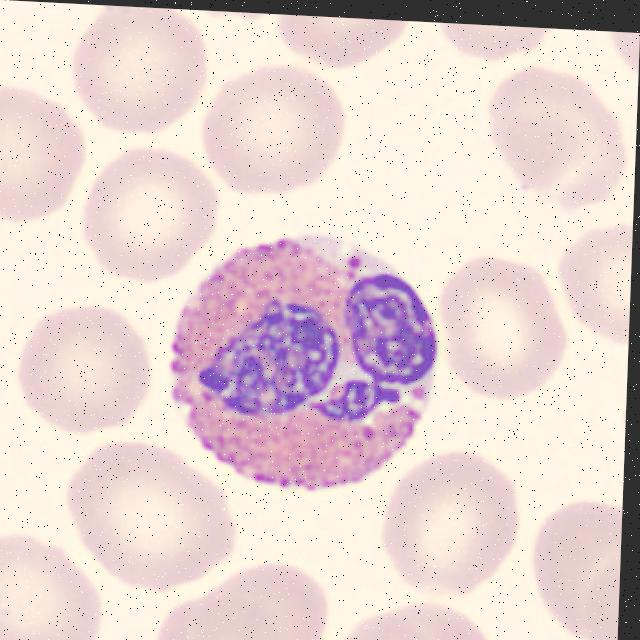eosinophil: (161, 218, 444, 502)
rbc: (63, 440, 247, 586), (193, 56, 351, 204), (480, 57, 627, 214), (69, 144, 227, 289), (375, 444, 521, 599), (9, 299, 158, 444), (74, 4, 221, 141), (436, 256, 566, 402), (157, 553, 344, 640), (0, 87, 88, 254), (0, 524, 106, 640), (536, 494, 623, 625), (558, 213, 633, 347), (268, 14, 411, 74), (423, 22, 556, 76), (572, 519, 622, 640), (366, 606, 495, 640), (332, 607, 432, 640), (520, 632, 601, 640)
